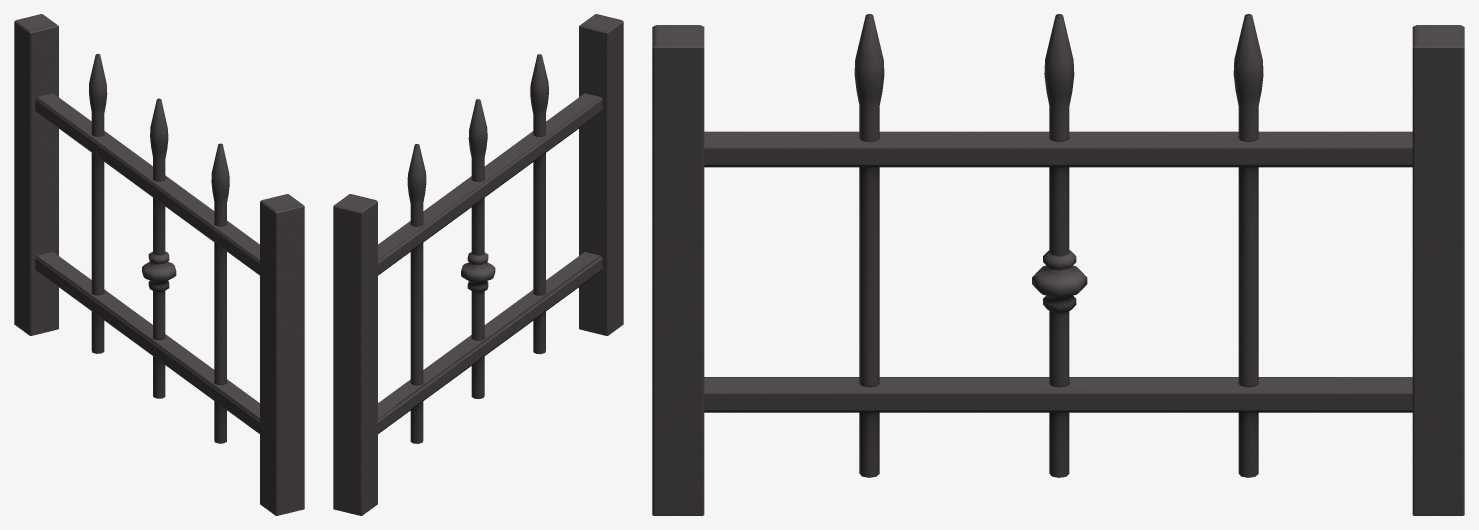
File: Fence.fbx
The picture shows the model from 3 angles, left to right: view 1: azimuth 30°, elevation 25°; view 2: azimuth 150°, elevation 25°; view 3: azimuth 270°, elevation 25°; orthographic projection. The views are drawn at different scales.
Parts seen in each view (by area): view 1: Fence, Pi1, Pi2; view 2: Fence, Pi2, Pi1; view 3: Fence, Pi1, Pi2.
Boxes of the visible parts, <box> form: Fence: <box>35,54,259,443</box>; Pi1: <box>260,194,304,515</box>; Pi2: <box>14,14,58,335</box>; Fence: <box>378,54,602,443</box>; Pi2: <box>333,194,377,515</box>; Pi1: <box>579,14,623,335</box>; Fence: <box>704,14,1412,477</box>; Pi1: <box>652,25,704,515</box>; Pi2: <box>1412,25,1464,515</box>.
Bounding box in the file's own units: 0.3625 × 3.55 × 5.34.
